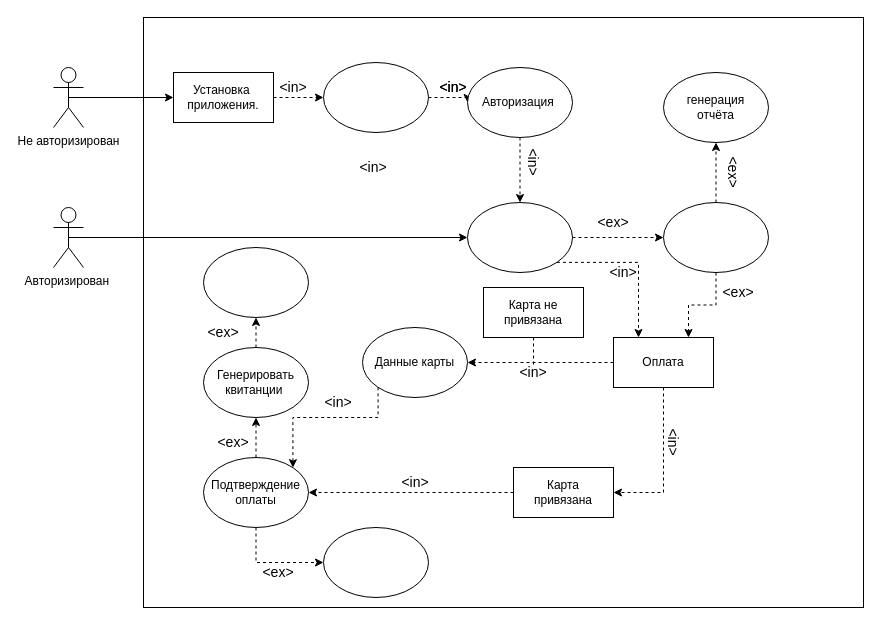
This 881x625 diagram has some shape labels left out. The centre of each missing label's shape, as x and y in pixels:
Выбор периода: point 715,237
Выбор показания прибора: point 519,237
Закрыть: point 375,562
Регистрация: point 375,97
Скачать квитанцию: point 255,282
